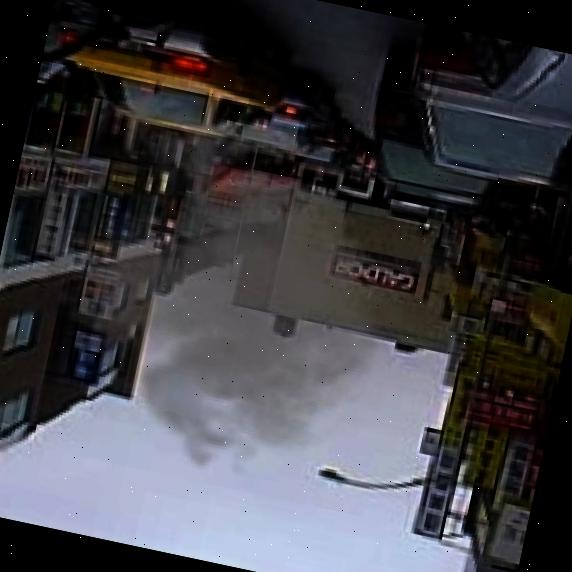smoke: (0, 60, 453, 509)
